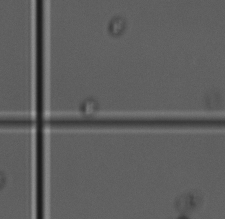Dead Cell: (175, 190, 202, 213), (107, 14, 128, 35), (79, 98, 99, 117)
